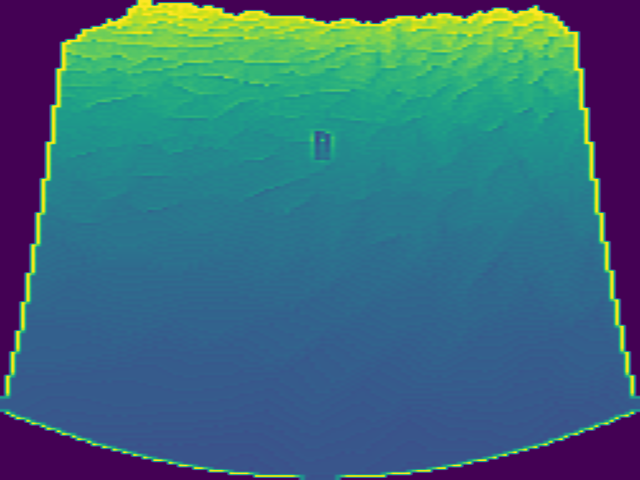car_0198: (311, 130, 333, 160)
